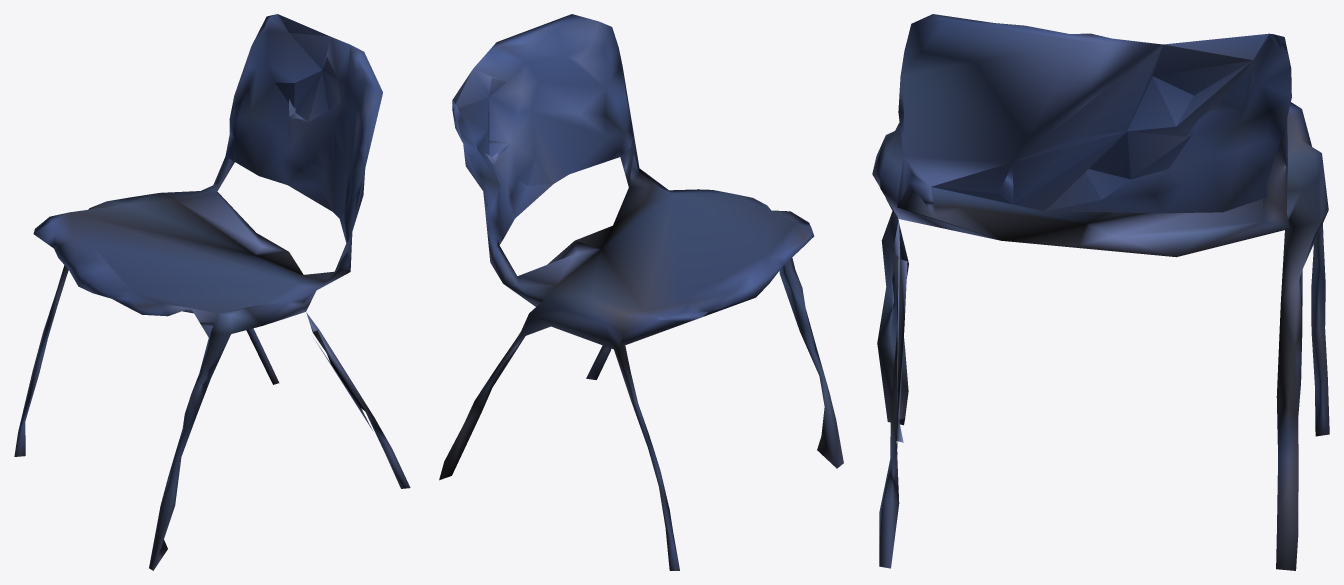
File: chair_final.obj
3 views of the same model, side by side, from view 1: azimuth 30°, elevation 25°; view 2: azimuth 150°, elevation 25°; view 3: azimuth 270°, elevation 25° (orthographic). The views are drawn at different scales.
Parts seen in each view (by area): view 1: chair_meshlab; view 2: chair_meshlab; view 3: chair_meshlab.
Part boxes in pixels (x1,y1,x2,y2): chair_meshlab: (14, 14, 410, 570); chair_meshlab: (439, 14, 843, 570); chair_meshlab: (872, 14, 1329, 570).
Size of the model in its own units: 20.06 by 27.8 by 19.92.
